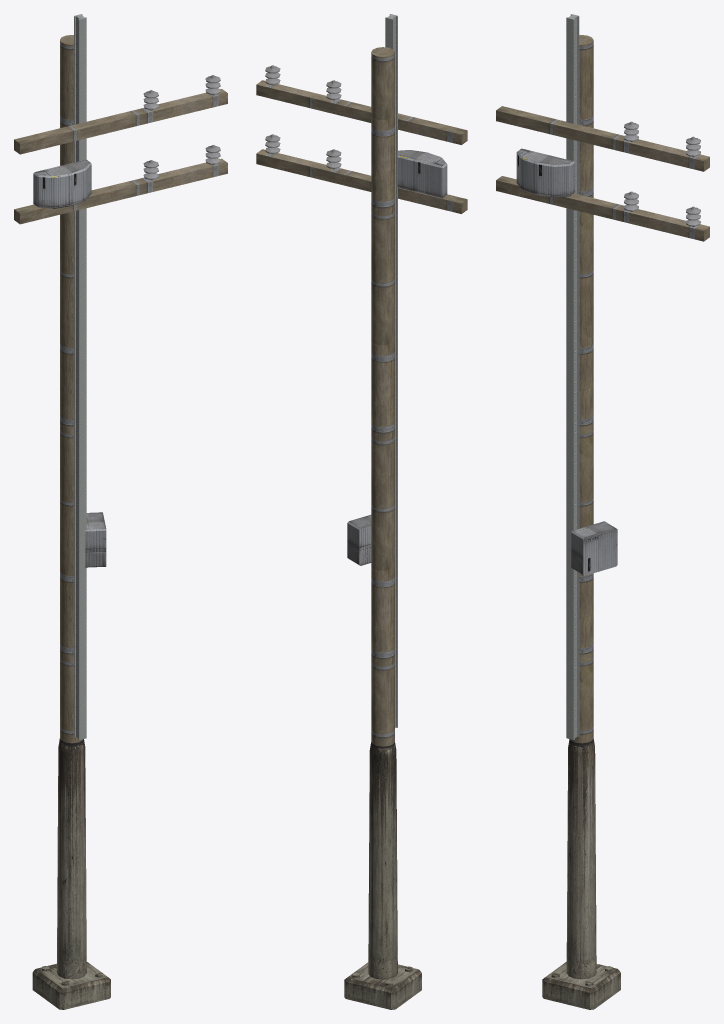
The model's file is CT_Powerpole_04.FBX.
3 renders of one model, left to right at view 1: azimuth 30°, elevation 25°; view 2: azimuth 150°, elevation 25°; view 3: azimuth 330°, elevation 25°, orthographic.
Visible parts, largest first — view 1: CT_Powerpole_04; view 2: CT_Powerpole_04; view 3: CT_Powerpole_04.
Part boxes in pixels (bbox=[...]): CT_Powerpole_04: bbox=[14, 14, 227, 1009]; CT_Powerpole_04: bbox=[256, 14, 467, 1009]; CT_Powerpole_04: bbox=[496, 14, 709, 1009].
Bounding box in the file's own units: 160 × 723 × 50.
